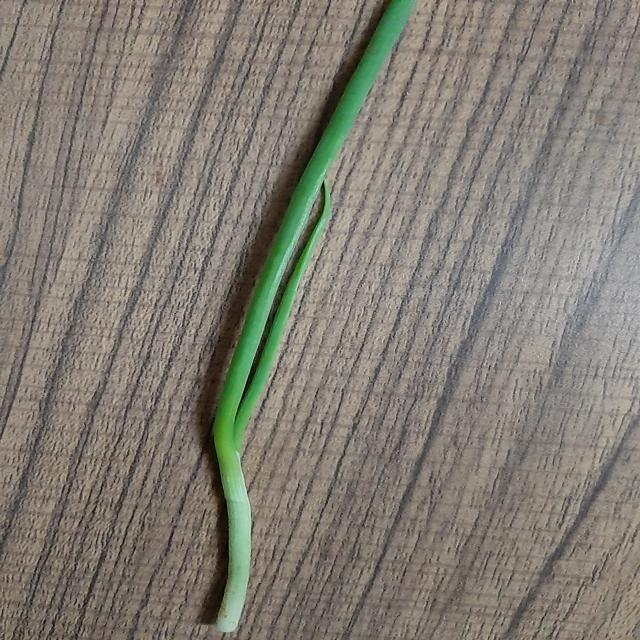onion: (214, 0, 415, 632)
